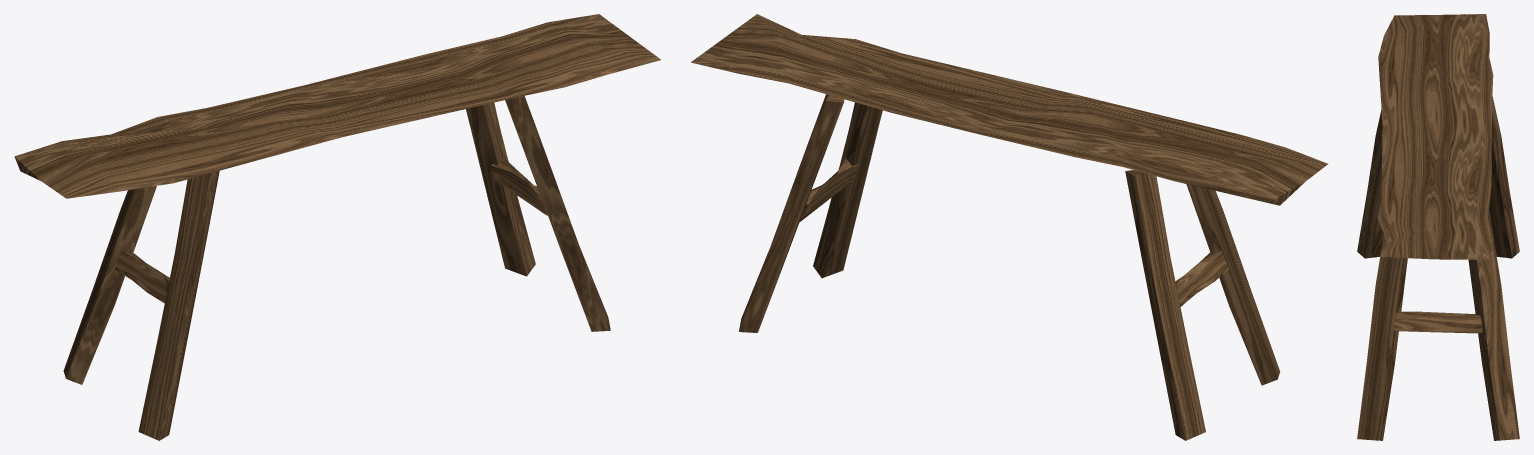
File: banc_LOD2.FBX
3 renders of one model, left to right at view 1: azimuth 30°, elevation 25°; view 2: azimuth 150°, elevation 25°; view 3: azimuth 270°, elevation 25°, orthographic. The views are drawn at different scales.
Visible parts, largest first — view 1: banc_LOD02; view 2: banc_LOD02; view 3: banc_LOD02.
Boxes of the visible parts, box(x1,y1,x2,y2) form: banc_LOD02: box(14, 14, 660, 440); banc_LOD02: box(691, 14, 1327, 440); banc_LOD02: box(1357, 14, 1519, 440).
Bounding box in the file's own units: 126 × 52.95 × 35.34.
